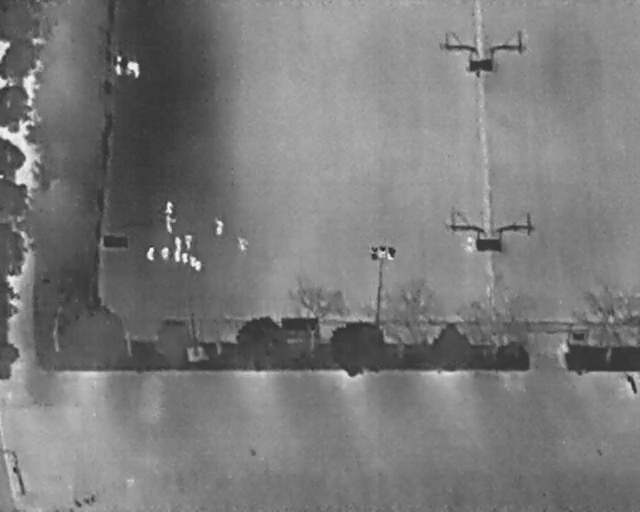Person: (127, 58, 140, 77), (114, 55, 123, 76), (166, 216, 176, 233), (214, 218, 224, 235), (238, 236, 249, 251), (465, 237, 476, 252), (146, 246, 155, 262), (165, 201, 173, 214), (185, 235, 192, 249), (161, 246, 168, 260), (175, 236, 182, 249)
